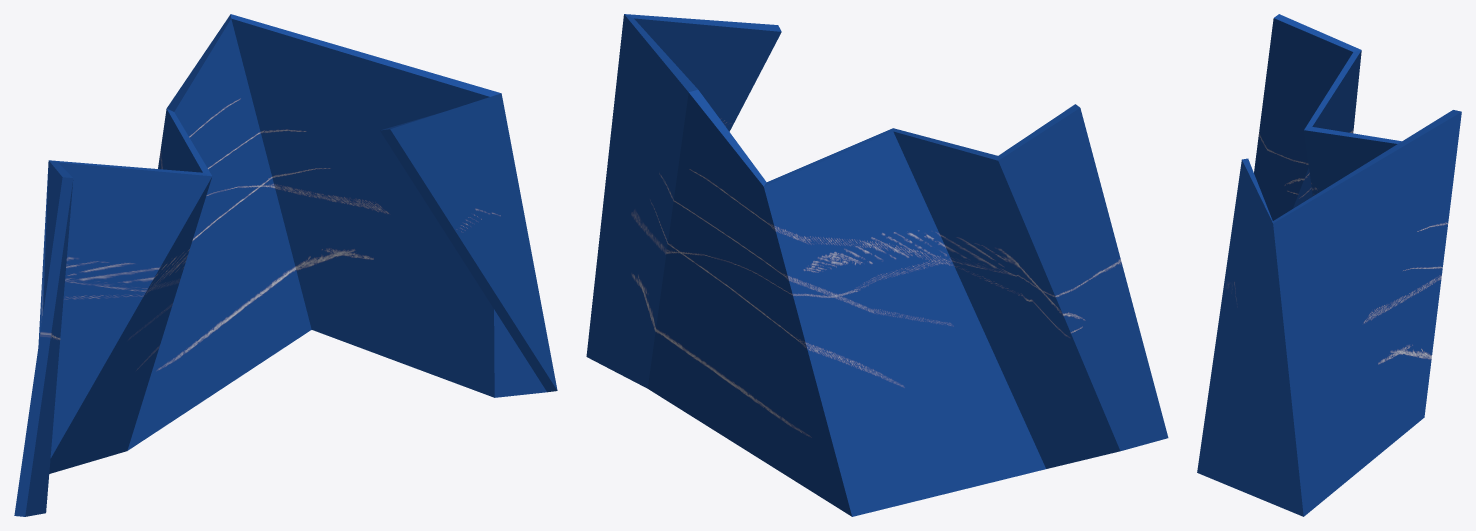
Rendered from Lataria3.fbx.
3 renders of one model, left to right at view 1: azimuth 30°, elevation 25°; view 2: azimuth 150°, elevation 25°; view 3: azimuth 270°, elevation 25°, orthographic. The views are drawn at different scales.
Visible parts, largest first — view 1: Plano; view 2: Plano; view 3: Plano.
Boxes of the visible parts, <box> form: Plano: <box>14,14,557,516</box>; Plano: <box>586,14,1168,516</box>; Plano: <box>1197,14,1461,516</box>.
Size of the model in its own units: 114 by 80.77 by 55.68.
